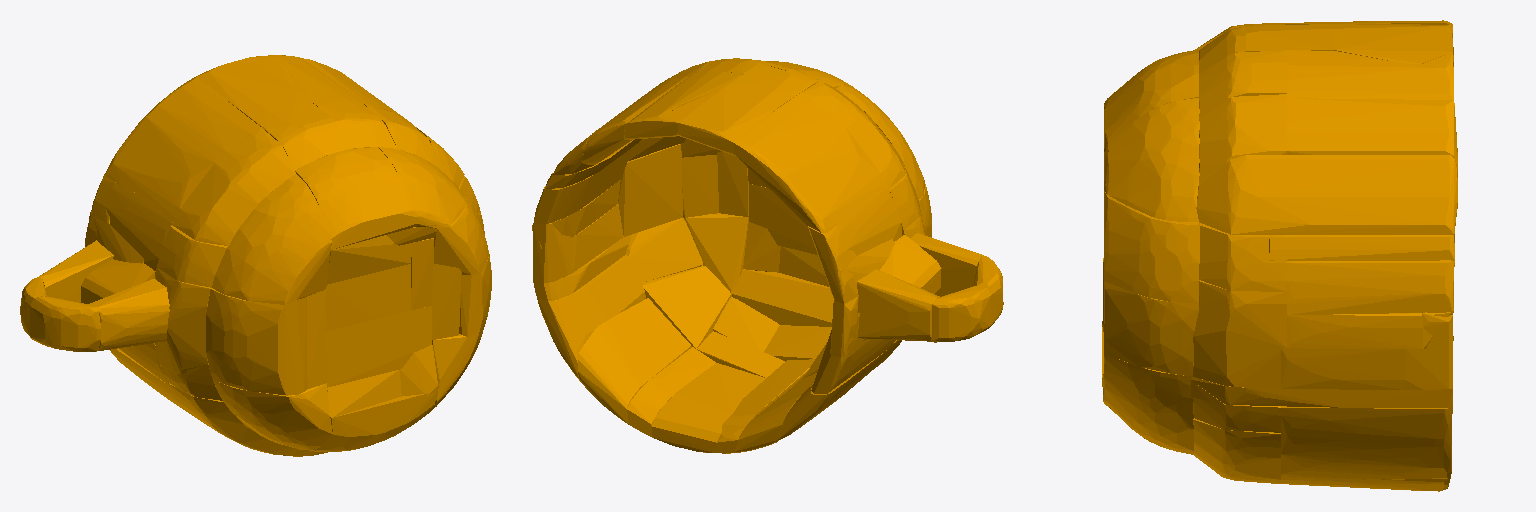
robot.urdf — cup-white:
<?xml version="1.0" ?>
<robot name="cup-white">
  <link name="baseLink">
    <contact>
      <lateral_friction value="1.0"/>
      <inertia_scaling value="3.0"/>
    </contact>
    <inertial>
      <origin rpy="0 0 0" xyz="0.000 0.000 0.000"/>
       <mass value=".1"/>
       <inertia ixx="1" ixy="0.0" ixz="0.0" iyy="1" iyz="0.0" izz="1"/>
    </inertial>
    <visual>
      <origin rpy="0 0 0" xyz="0 0 0"/>
      <geometry>
        <mesh filename="cup/cup-white_hogermann.obj" scale="1.0 1.0 1.0"/>
      </geometry>
    </visual>
    <collision>
      <origin rpy="0 0 0" xyz="0 0 0"/>
      <geometry>
        <mesh filename="../collision/cup/cup-white_hogermann.obj" scale="1.0 1.0 1.0"/>
      </geometry>
    </collision>
  </link>
</robot>
        

--- Facts derived from the render (not from the file) ---
The picture shows the robot from 3 angles, left to right: view 1: azimuth 30°, elevation 25°; view 2: azimuth 150°, elevation 25°; view 3: azimuth 270°, elevation 25°; orthographic projection.
Model cup-white with 1 links and 0 joints (none), rooted at baseLink, posed all joints at 0.
Links seen in each view (by area): view 1: baseLink; view 2: baseLink; view 3: baseLink.
Boxes of the visible links, left/top/right/bottom form: baseLink: left=20, top=55, right=491, bottom=456; baseLink: left=532, top=58, right=1003, bottom=453; baseLink: left=1102, top=20, right=1457, bottom=491.
Bounding box of the posed robot: 0.1041 × 0.0608 × 0.079 m (x, y, z).
Meshes: 1 distinct files referenced, 1 mesh visuals loaded (1 OBJ).
